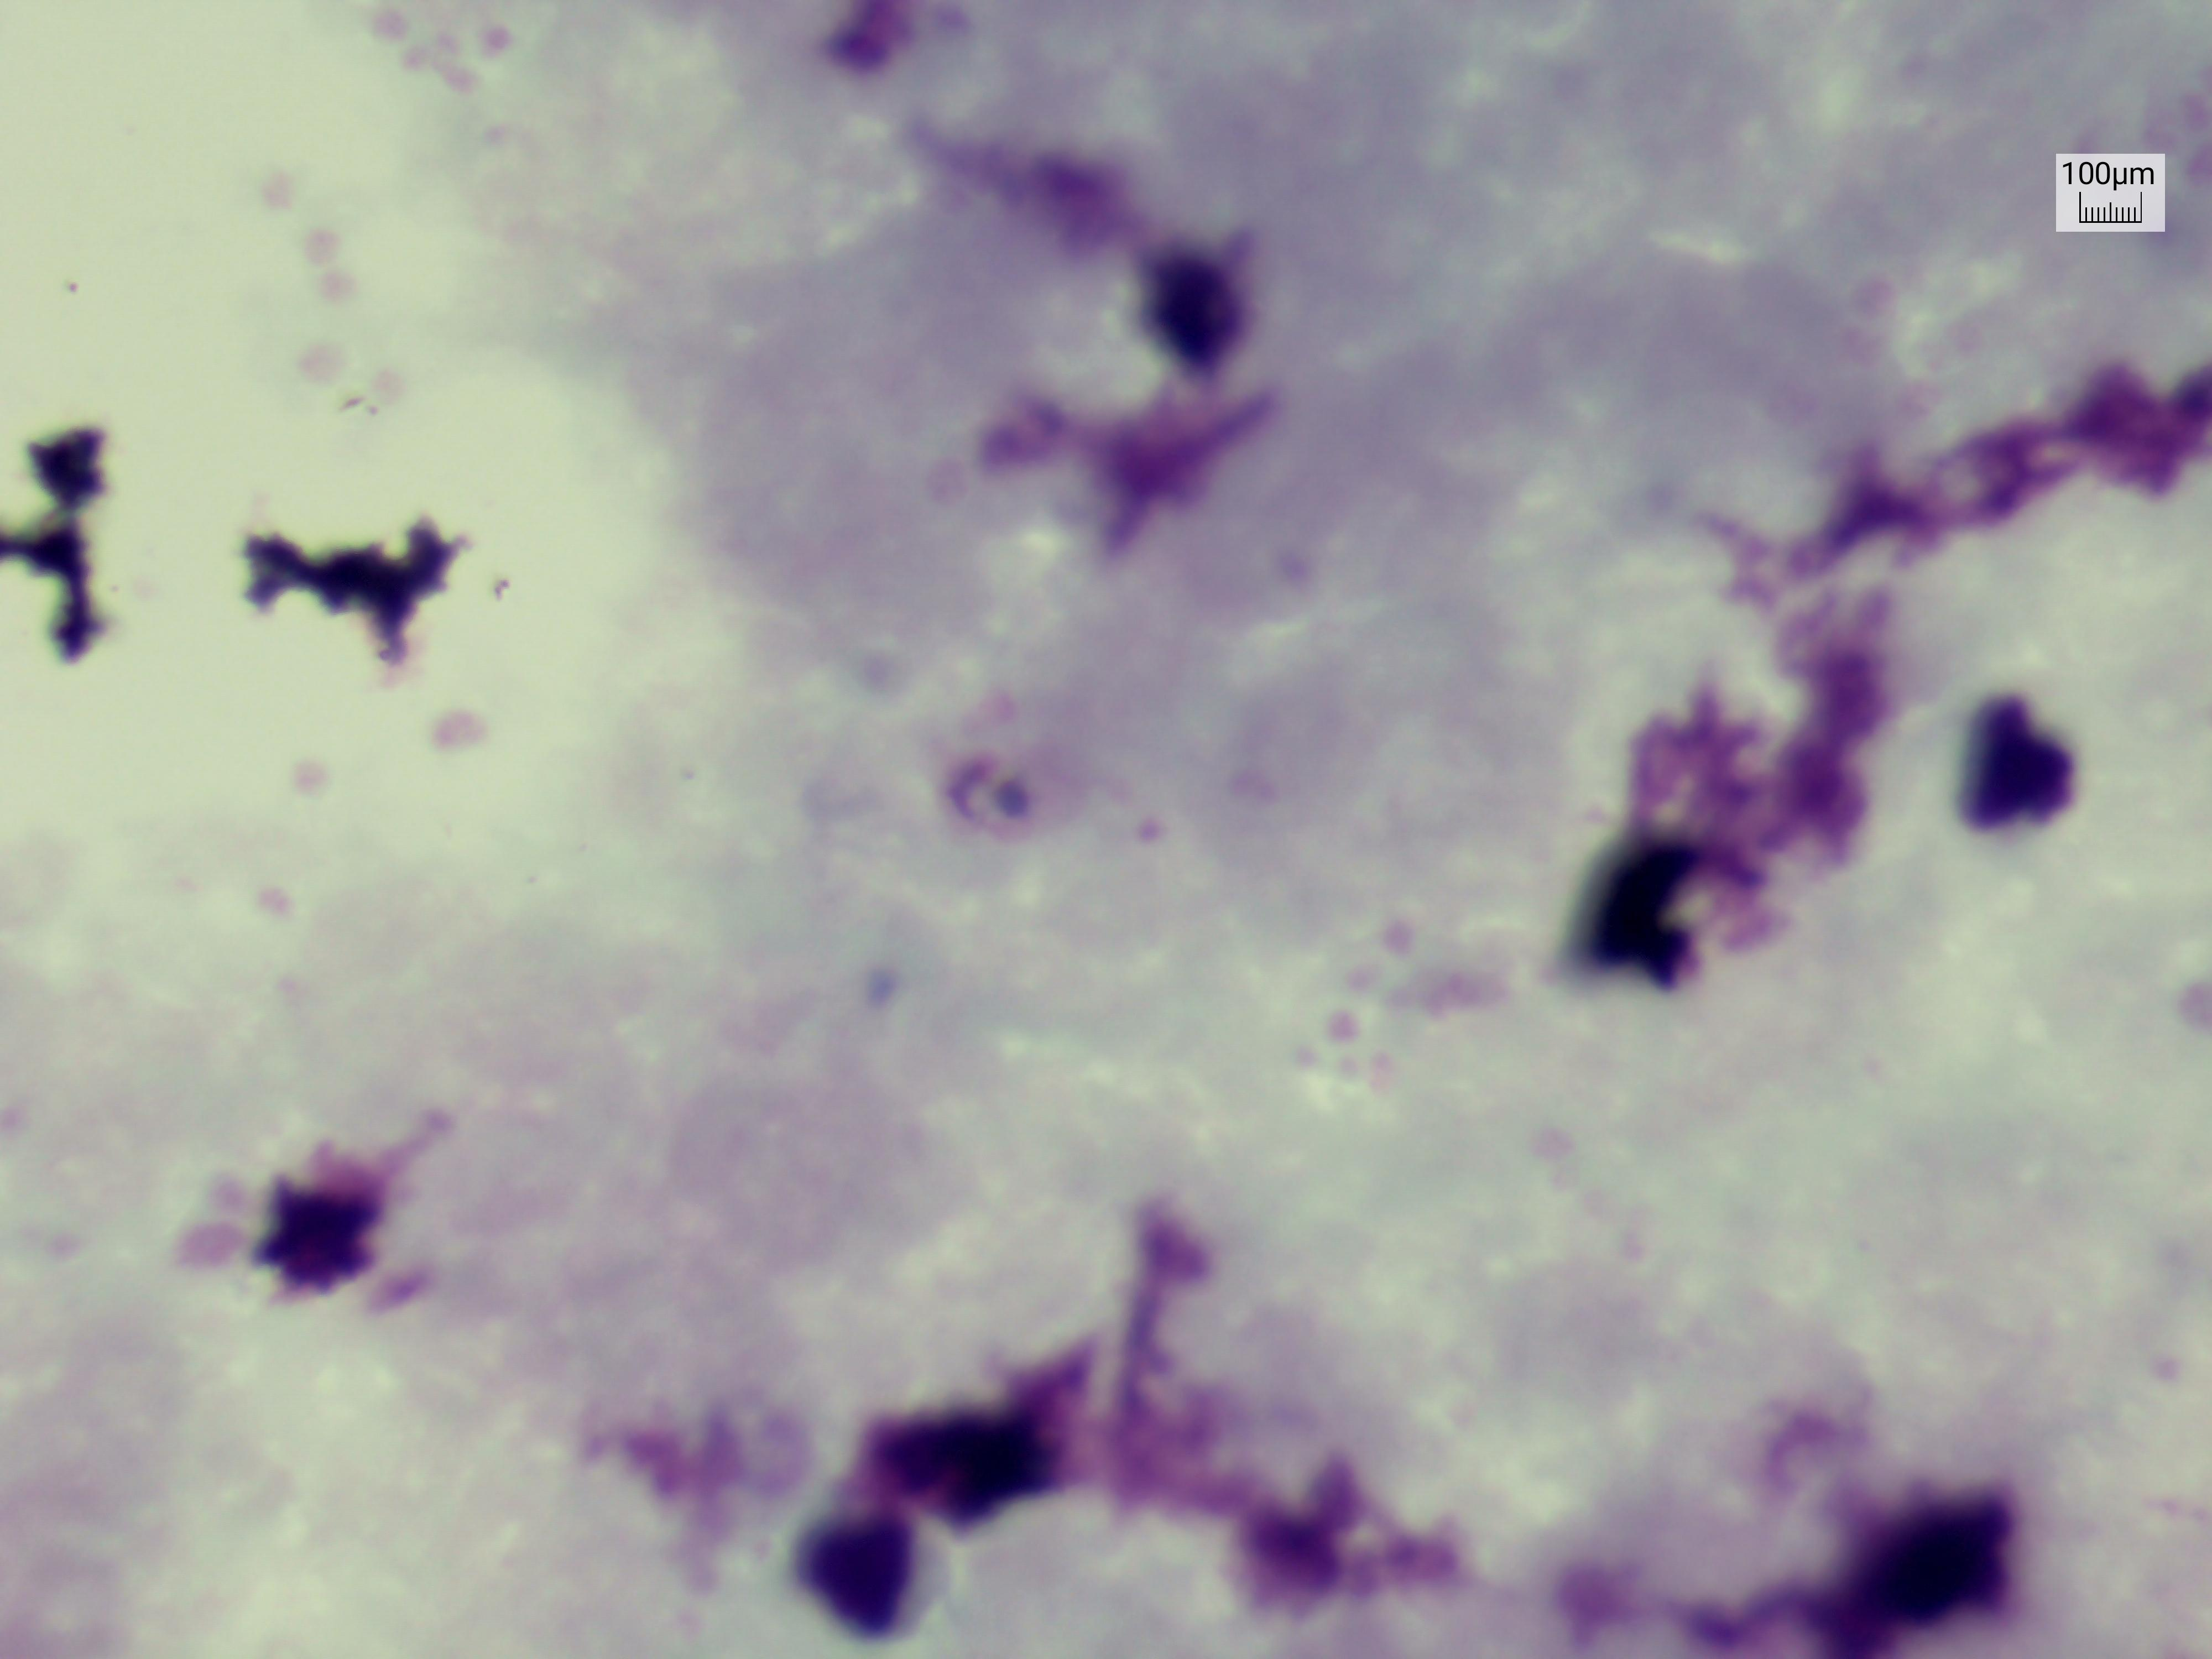p.vivax: (923, 721, 1080, 866)
